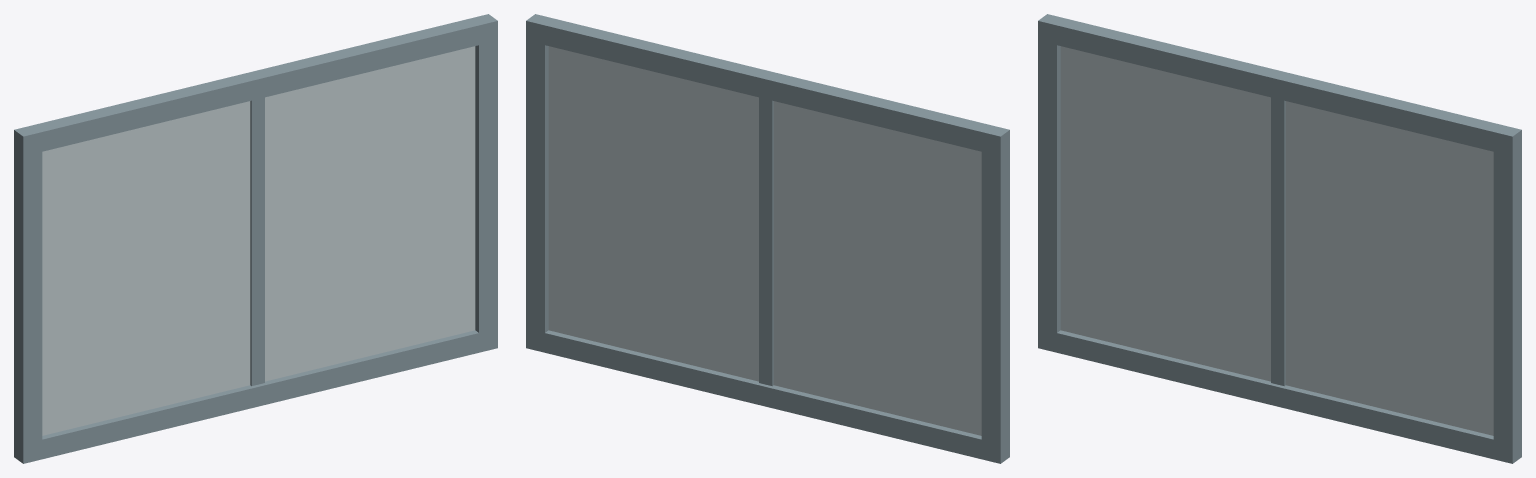
File: window.leaf.1m8.glb
3 renders of one model, left to right at view 1: azimuth 30°, elevation 25°; view 2: azimuth 150°, elevation 25°; view 3: azimuth 330°, elevation 25°, orthographic.
Visible parts, largest first — view 1: window.leaf.1m8; view 2: window.leaf.1m8; view 3: window.leaf.1m8.
Boxes of the visible parts, x1,y1,x2,y2 form: window.leaf.1m8: [14, 14, 497, 463]; window.leaf.1m8: [526, 14, 1009, 463]; window.leaf.1m8: [1038, 14, 1521, 463].
Size of the model in its own units: 1.76 by 1.16 by 0.06.
